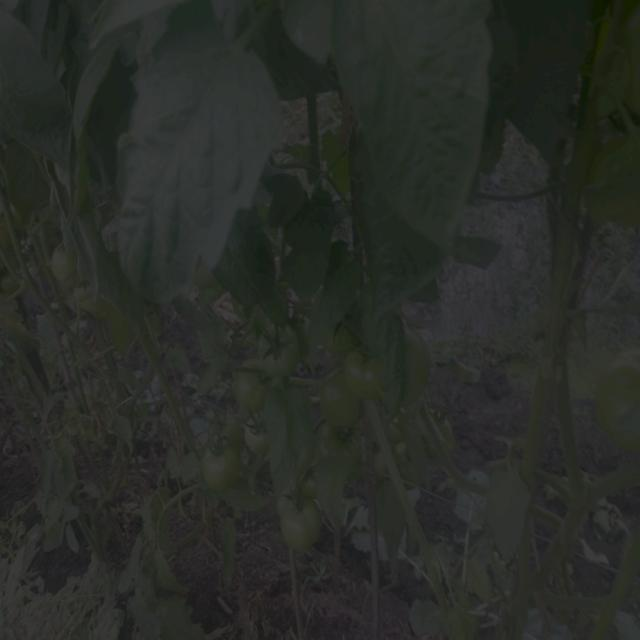tomato: (593, 367, 640, 446), (276, 488, 326, 561), (313, 377, 364, 426), (254, 319, 305, 367), (199, 433, 238, 490), (404, 331, 434, 403), (342, 340, 374, 399), (228, 365, 272, 405), (242, 413, 259, 448)
